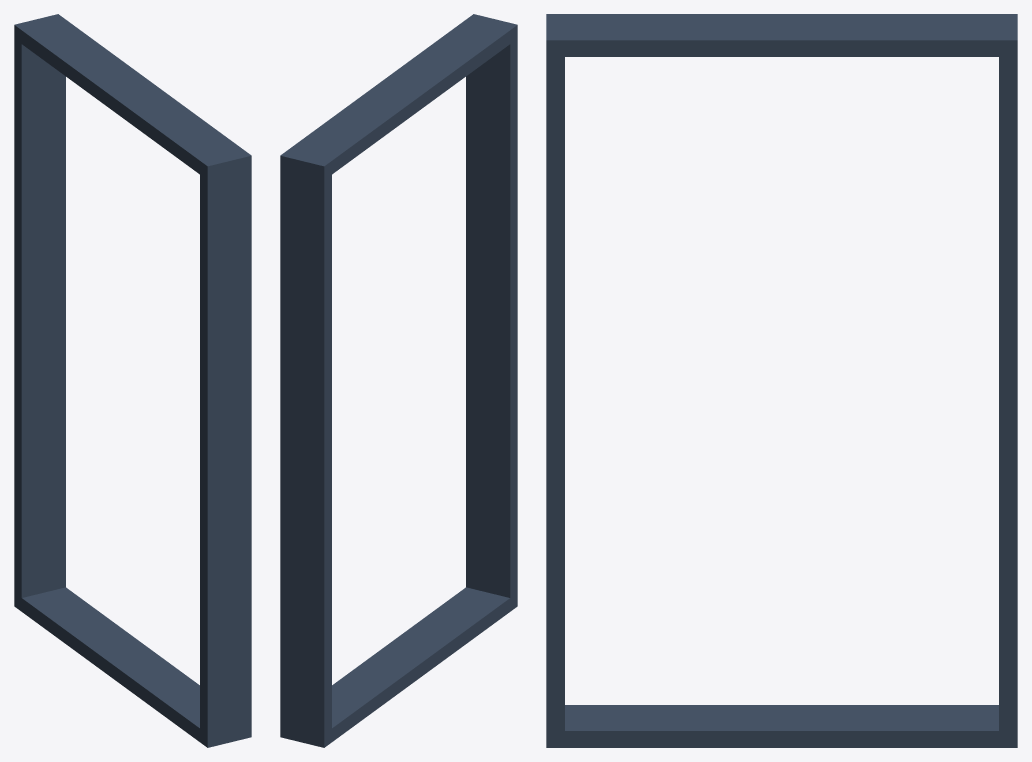
File: rectangle border.fbx
The picture shows the model from 3 angles, left to right: view 1: azimuth 30°, elevation 25°; view 2: azimuth 150°, elevation 25°; view 3: azimuth 270°, elevation 25°; orthographic projection. The views are drawn at different scales.
Visible parts, largest first — view 1: Cube; view 2: Cube; view 3: Cube.
Boxes of the visible parts, box(x1,y1,x2,y2) form: Cube: box(14, 14, 251, 747); Cube: box(280, 14, 517, 747); Cube: box(546, 14, 1017, 747).
Size of the model in its own units: 200 by 1520 by 2520.
